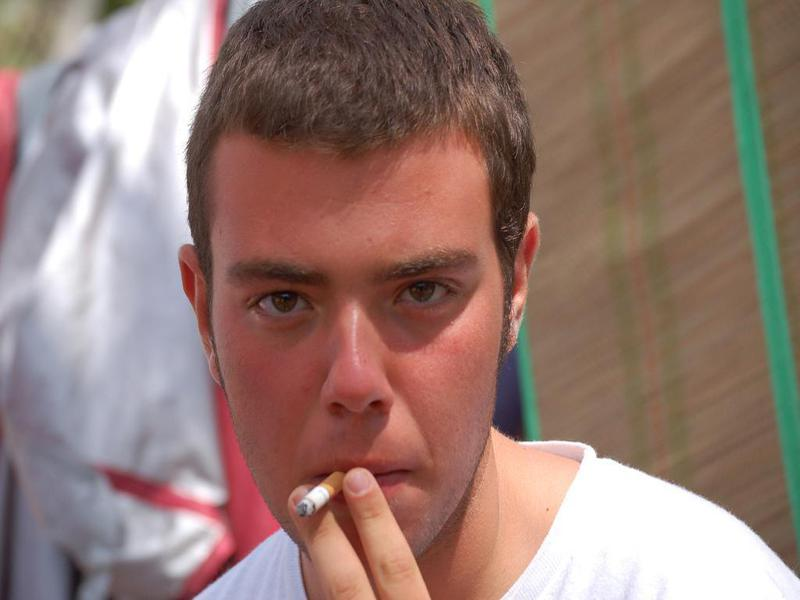person: (173, 1, 800, 598)
